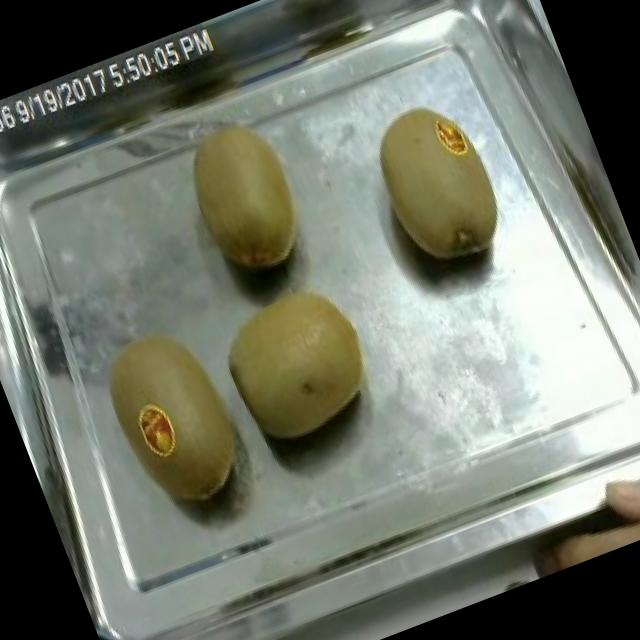Fruit: (90, 304, 270, 526), (200, 261, 398, 461), (348, 78, 528, 290), (166, 105, 330, 296)
